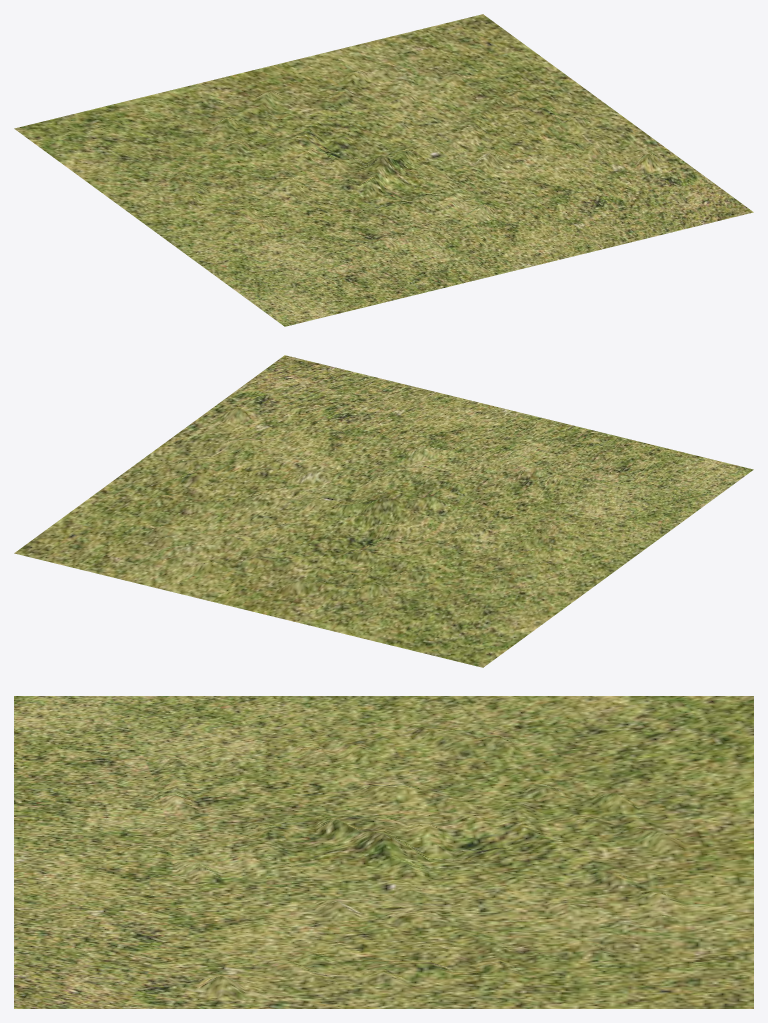
File: GrassTerrain.fbx
The picture shows the model from 3 angles, top to bottom: view 1: azimuth 30°, elevation 25°; view 2: azimuth 150°, elevation 25°; view 3: azimuth 270°, elevation 25°; orthographic projection. The views are drawn at different scales.
Parts seen in each view (by area): view 1: Plane; view 2: Plane; view 3: Plane.
Boxes of the visible parts, <box> form: Plane: <box>14,14,753,326</box>; Plane: <box>14,355,753,667</box>; Plane: <box>14,696,753,1008</box>.
Bounding box in the file's own units: 2000 × 75.24 × 2000.
Materials: 1 (1 with a texture image).
